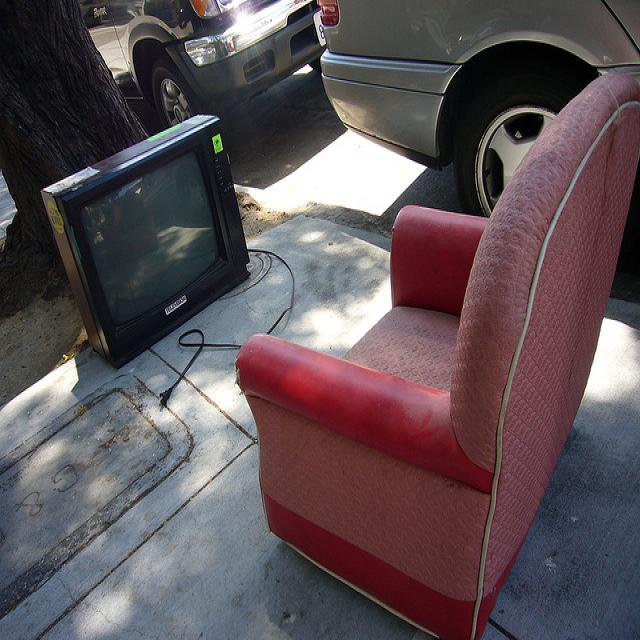Vehicle: (321, 3, 639, 217), (75, 0, 321, 127)
